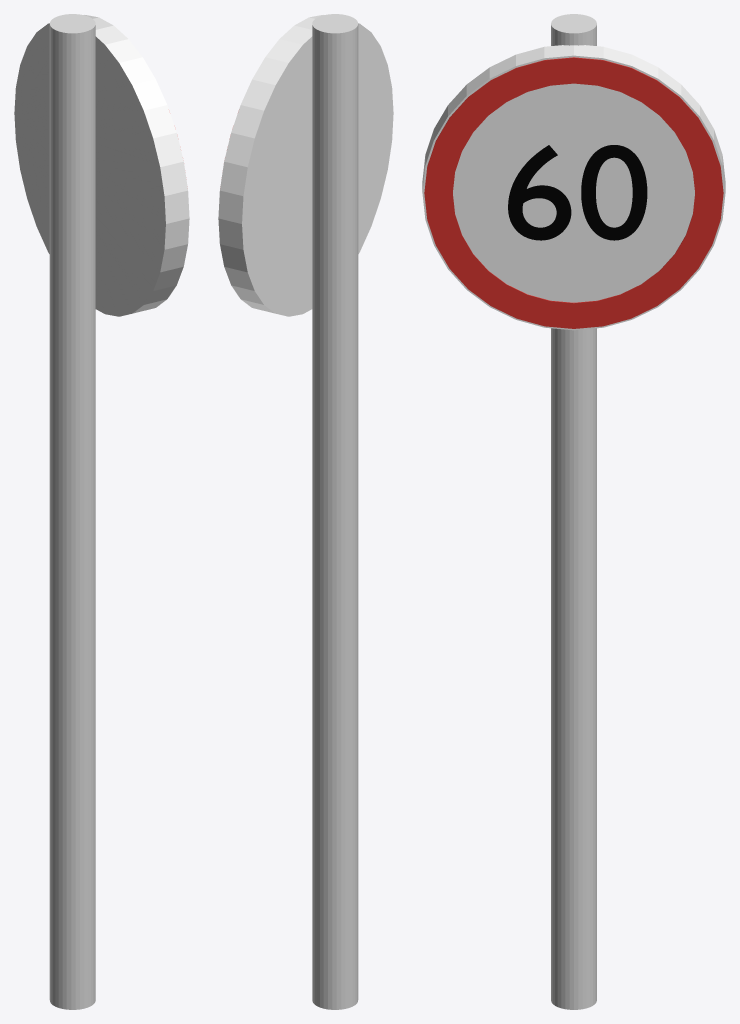
Rendered from SignSpeedLimit60.fbx.
3 renders of one model, left to right at view 1: azimuth 30°, elevation 25°; view 2: azimuth 150°, elevation 25°; view 3: azimuth 270°, elevation 25°, orthographic.
Parts seen in each view (by area): view 1: Cylinder.009, SignCircle.008; view 2: Cylinder.009, SignCircle.008; view 3: SignCircle.008, Cylinder.009, SignCircle.009, TextStop.005.
Boxes of the visible parts, x1,y1,x2,y2 form: Cylinder.009: (49, 14, 95, 1009); SignCircle.008: (14, 15, 189, 316); Cylinder.009: (312, 14, 358, 1009); SignCircle.008: (218, 15, 393, 316); SignCircle.008: (422, 45, 725, 330); Cylinder.009: (551, 14, 596, 1009); SignCircle.009: (424, 57, 723, 328); TextStop.005: (508, 145, 647, 240).
Size of the model in its own units: 111 by 1671 by 470.
